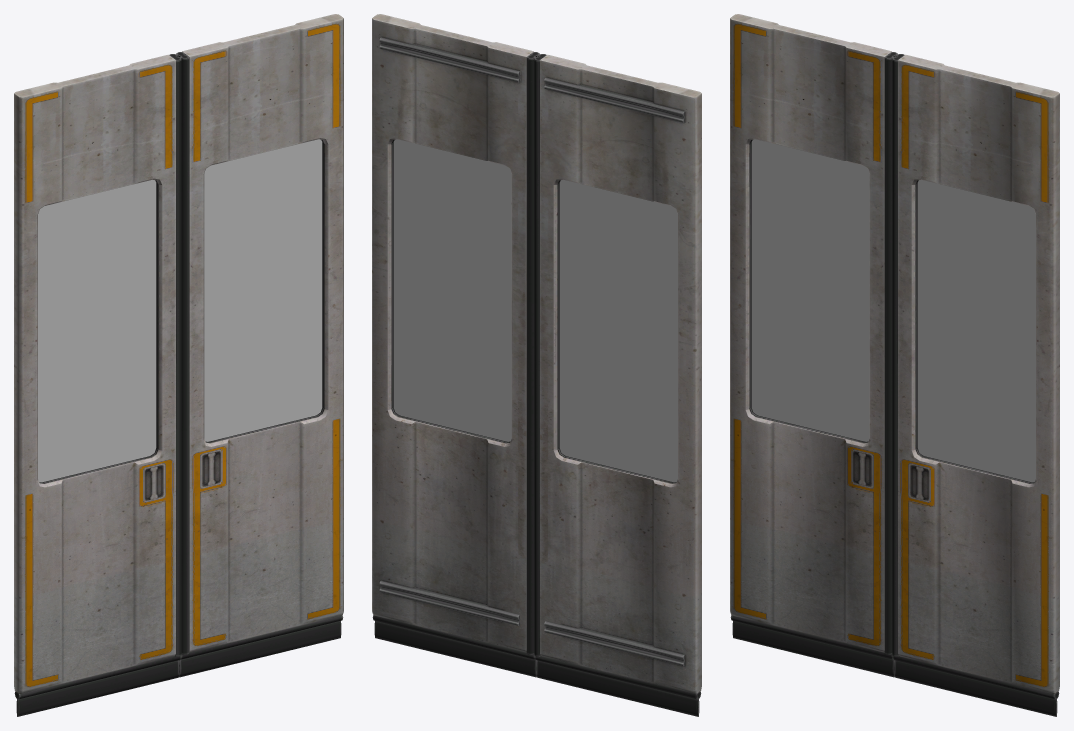
Rendered from slidedoor_theta_airlock_slidedoor.dae.
3 views of the same model, side by side, from view 1: azimuth 30°, elevation 25°; view 2: azimuth 150°, elevation 25°; view 3: azimuth 330°, elevation 25° (orthographic).
Visible parts, largest first — view 1: door_left, door_right, glass, glass__2_; view 2: door_left, door_right, glass, glass__2_; view 3: door_right, door_left, glass__2_, glass.
Part boxes in pixels (x1=…): door_left: x1=14, y1=54, x2=181, y2=716; door_right: x1=176, y1=14, x2=343, y2=677; glass: x1=204, y1=139, x2=322, y2=441; glass__2_: x1=38, y1=179, x2=156, y2=482; door_left: x1=534, y1=54, x2=701, y2=716; door_right: x1=372, y1=14, x2=539, y2=677; glass: x1=393, y1=139, x2=511, y2=441; glass__2_: x1=559, y1=179, x2=677, y2=482; door_right: x1=892, y1=54, x2=1059, y2=716; door_left: x1=730, y1=14, x2=897, y2=677; glass__2_: x1=751, y1=139, x2=869, y2=441; glass: x1=917, y1=179, x2=1035, y2=482.
Bounding box in the file's own units: 1.5 × 2.75 × 0.0796.
